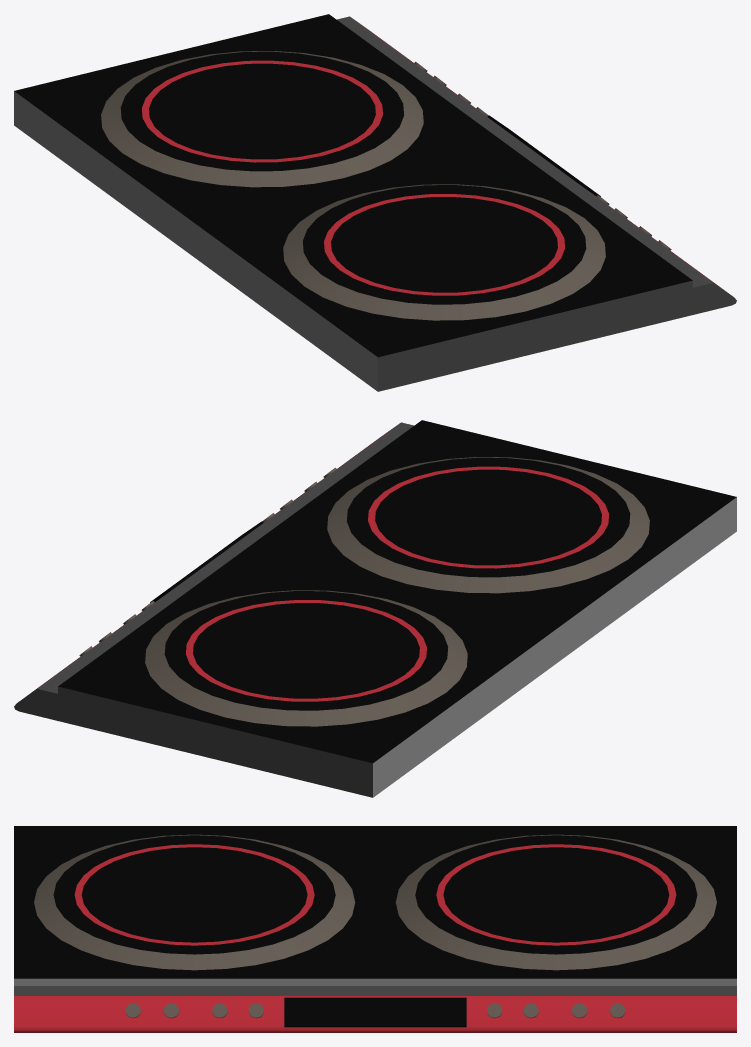
File: Stove_Hotplate.fbx
The picture shows the model from 3 angles, top to bottom: view 1: azimuth 30°, elevation 25°; view 2: azimuth 150°, elevation 25°; view 3: azimuth 270°, elevation 25°; orthographic projection.
Visible parts, largest first — view 1: Stove_Hotplate; view 2: Stove_Hotplate; view 3: Stove_Hotplate.
Part boxes in pixels (bbox=[...]): Stove_Hotplate: bbox=[14, 14, 736, 391]; Stove_Hotplate: bbox=[14, 420, 736, 797]; Stove_Hotplate: bbox=[14, 826, 736, 1032].
Size of the model in its own units: 2.28 by 0.2553 by 4.
1 material, 1 textured.
